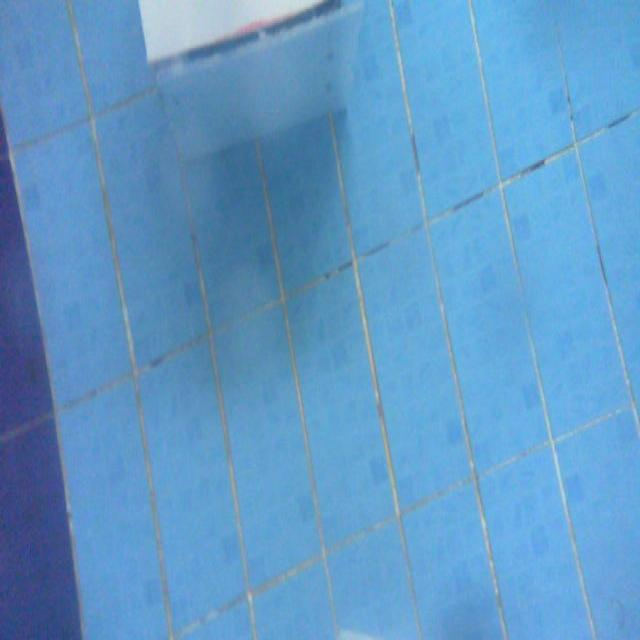Cube: (134, 0, 366, 160)
